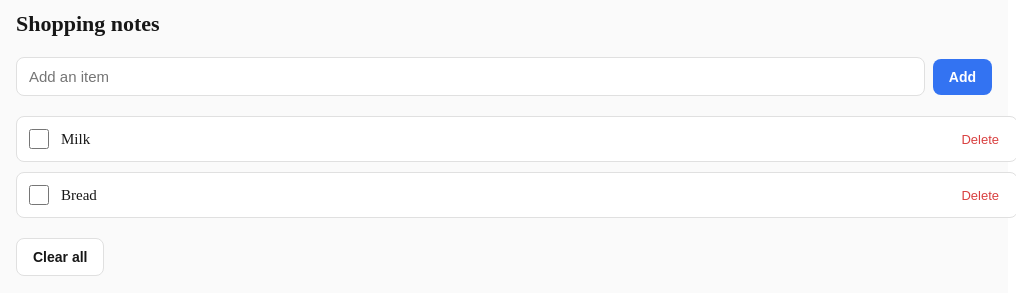
it: Home › removes the item from the displayed list immediately after it is deleted
expect the text "Milk" is shown: met, box 61,130 -> 90,146
Click the button "Delete" in the row of "Milk": point(980, 139) 955,130 -> 1005,148
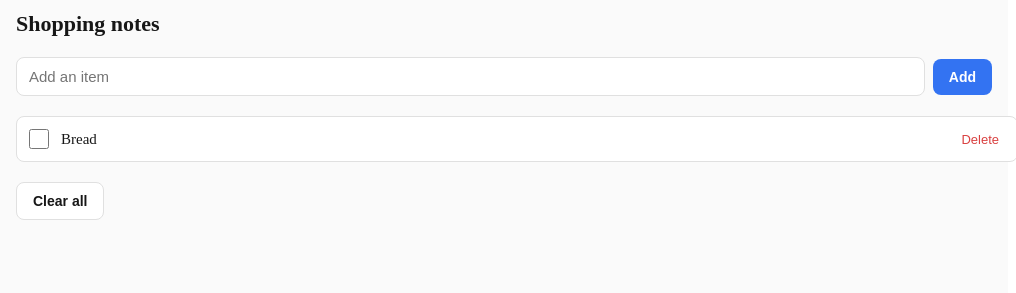
expect the text "Bread" is shown: met, box 61,130 -> 97,146
expect the text "Milk" is gone: met
